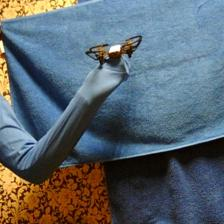drone: (88, 33, 142, 68)
